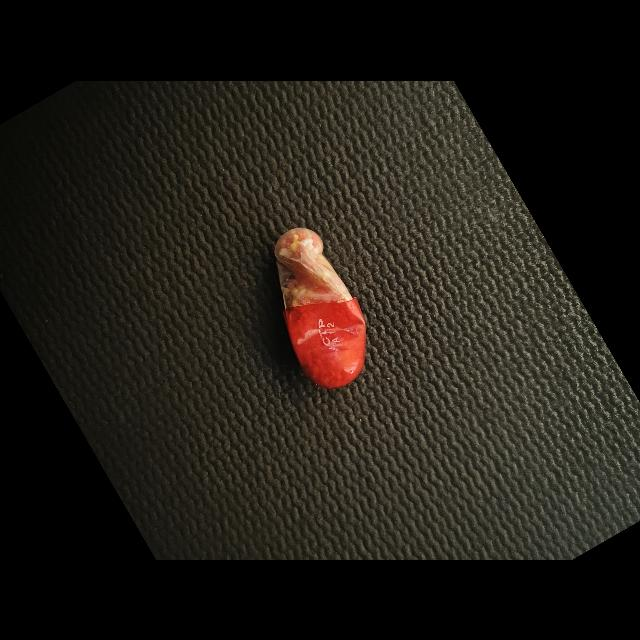Defective Capsule: (275, 227, 366, 388)
